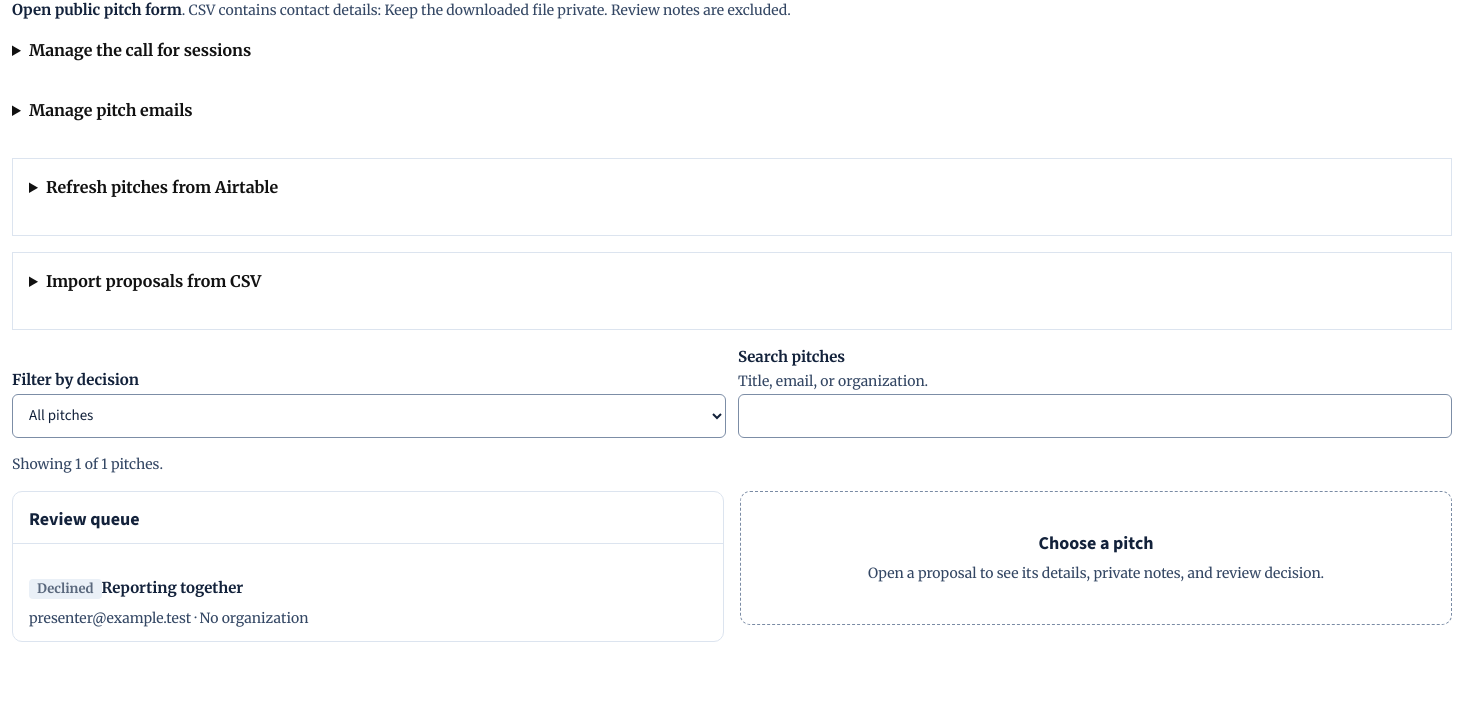
AdminSessionPitches decision email › says an imported address is unverified and that the other decision already went
Click the button "Reporting together" at (172, 588), box [102,576,243,600]
(page scrolled)
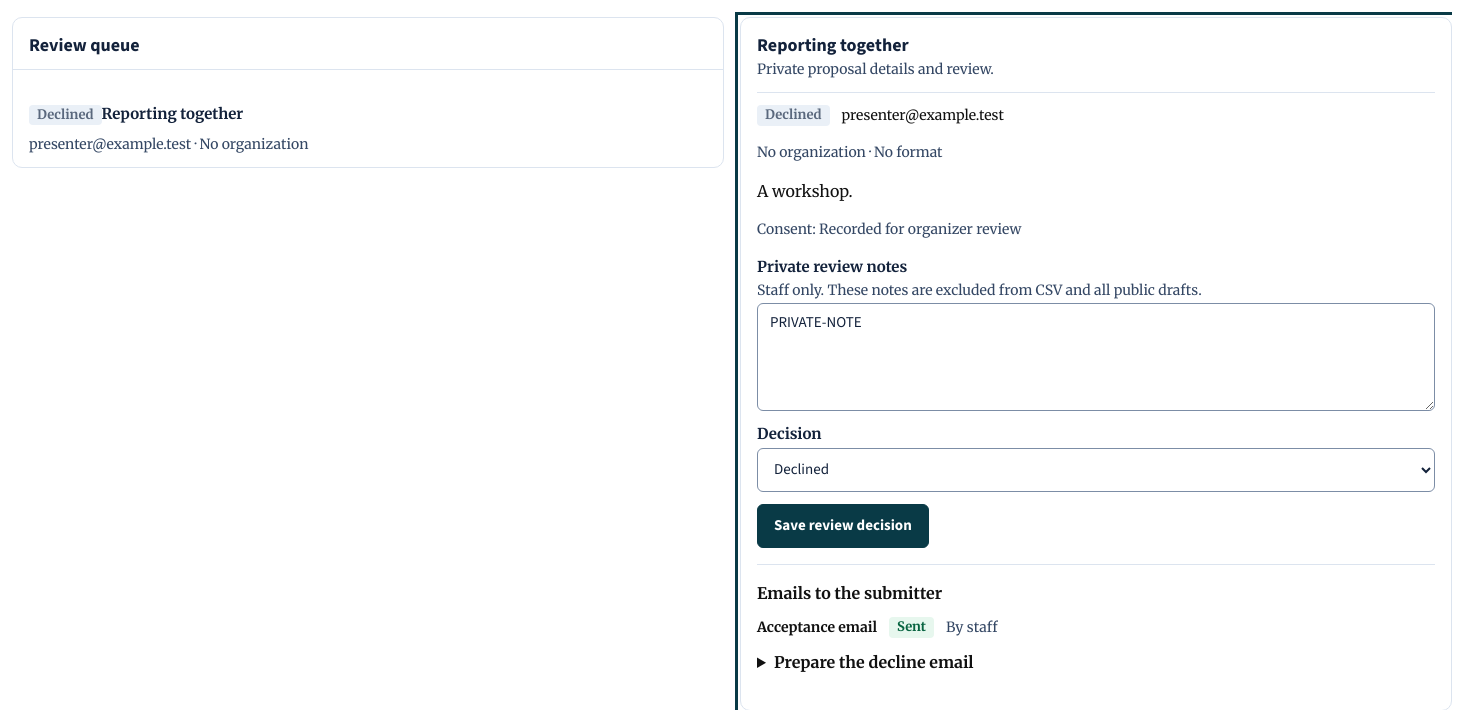
Click the heading "Prepare the decline email" at (874, 662), box [774,652,974,672]
(page scrolled)
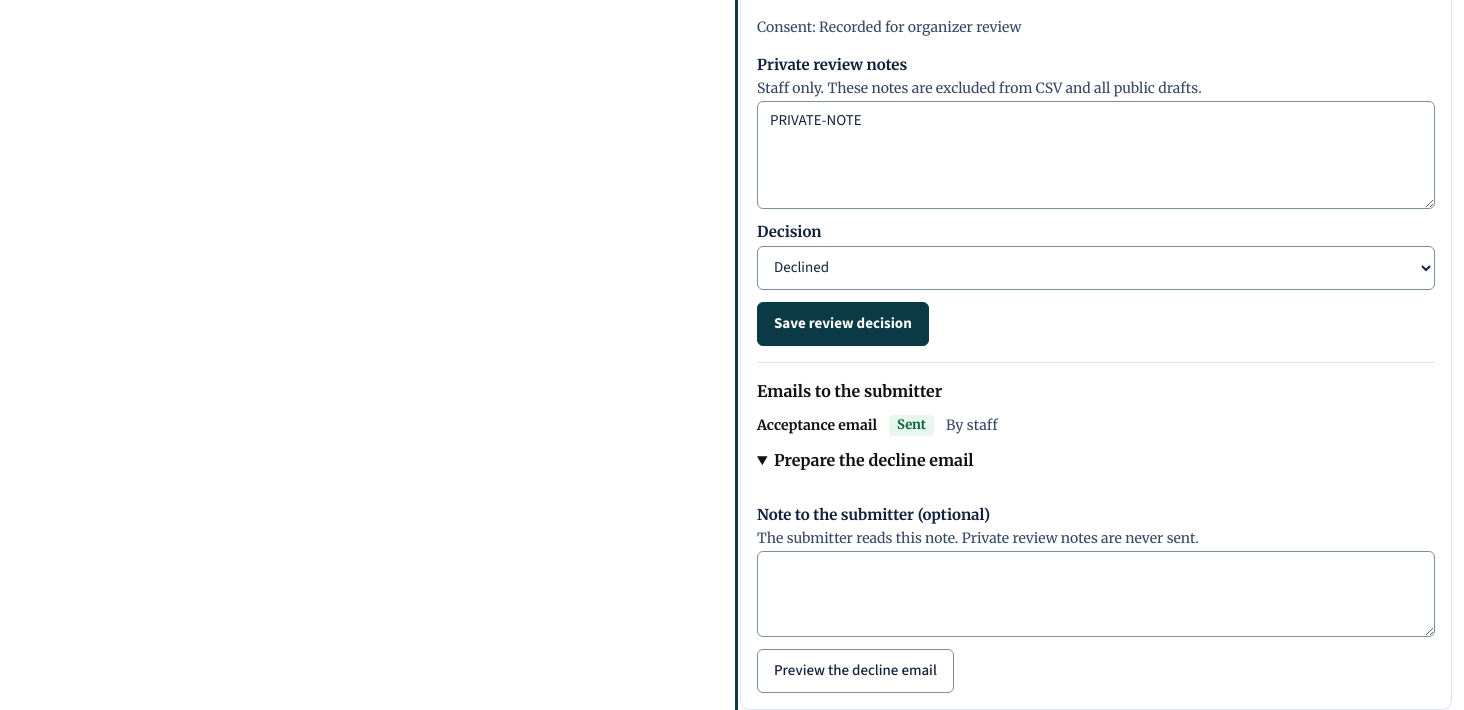
Click the button "Preview the decline email" at (855, 671), box [757,649,954,693]
(page scrolled)
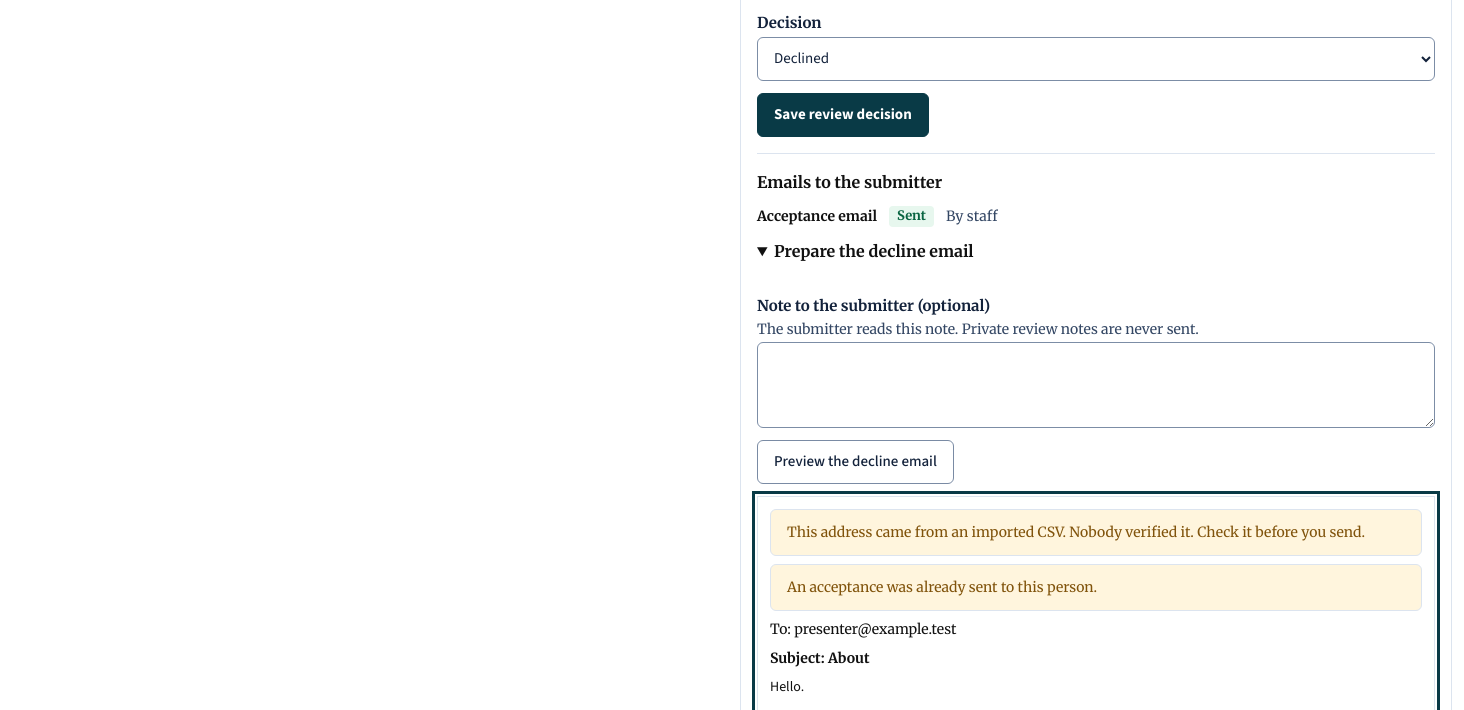
Check: the text "This address came from an imported CSV. Nobody verified it. Check it before you send." is shown, box [787,523,1365,541]
Check: the text "An acceptance was already sent to this person." is shown, box [770,564,1422,611]
